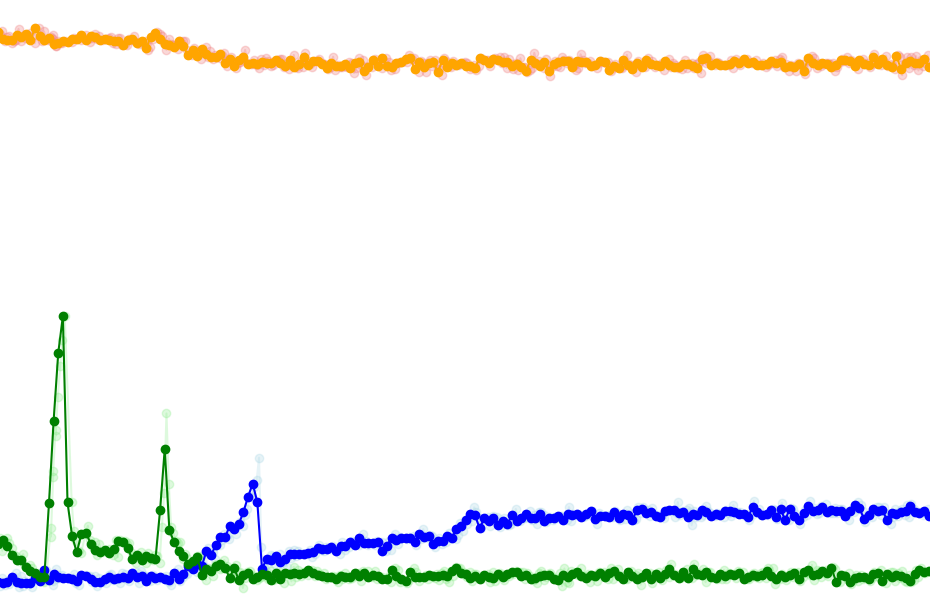CO2 Problem: (220, 0, 553, 616), (664, 0, 928, 616), (553, 0, 664, 616)
Condensation (CO2): (553, 0, 887, 616)
High O2: (220, 0, 553, 616), (664, 0, 928, 616), (553, 0, 664, 616)
Low CO2: (220, 0, 553, 616), (664, 0, 928, 616), (553, 0, 664, 616)
Normal: (553, 0, 928, 616), (553, 0, 887, 616), (220, 0, 553, 616), (664, 0, 928, 616), (664, 0, 887, 616)
O2 Problem: (220, 0, 553, 616), (664, 0, 928, 616), (664, 0, 887, 616), (553, 0, 664, 616)
